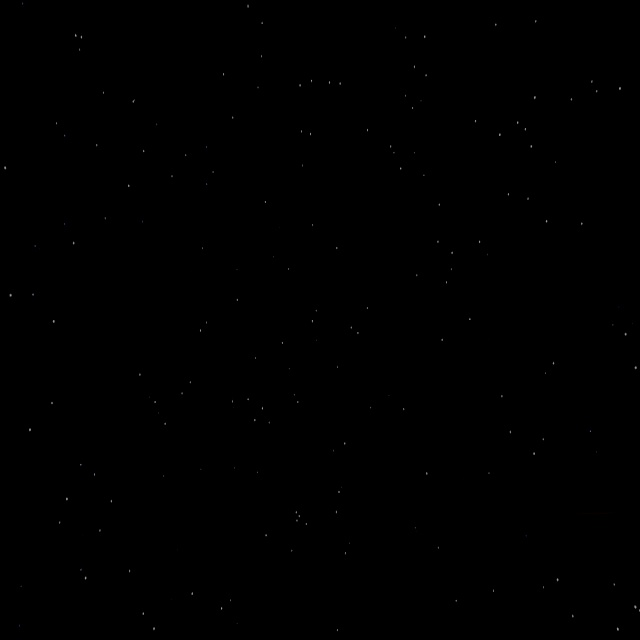satellite: (556, 476, 624, 587)
